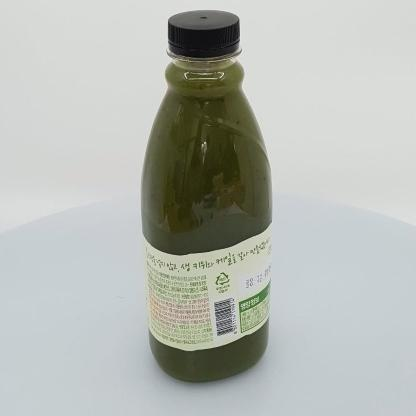-----------700ML: (140, 9, 271, 383)
